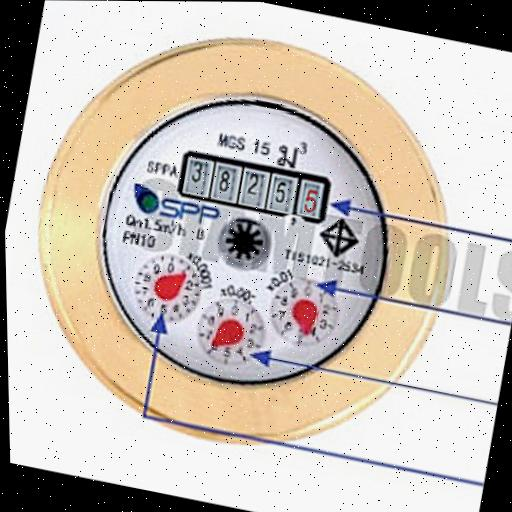2: (241, 172, 265, 207)
3: (185, 161, 209, 197)
5: (270, 179, 292, 213), (301, 185, 322, 217)
8: (214, 167, 235, 202)
border_water_meter_number: (175, 148, 334, 226)
